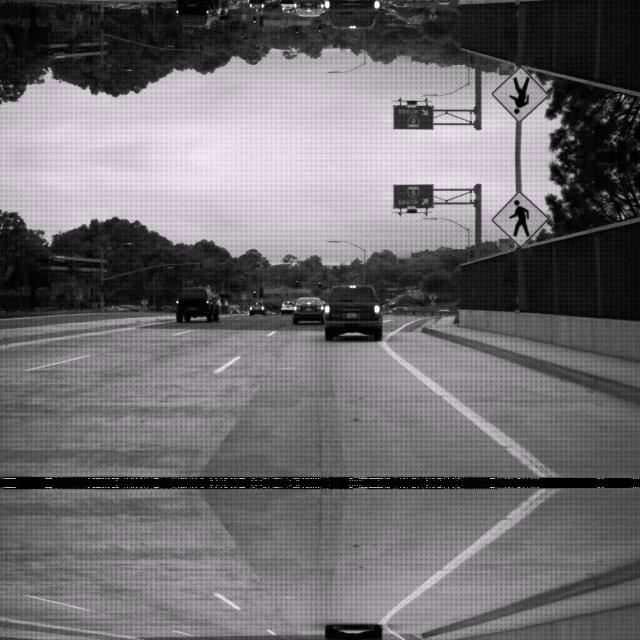pedestrianCrossing: (491, 188, 549, 246), (491, 66, 549, 124)
